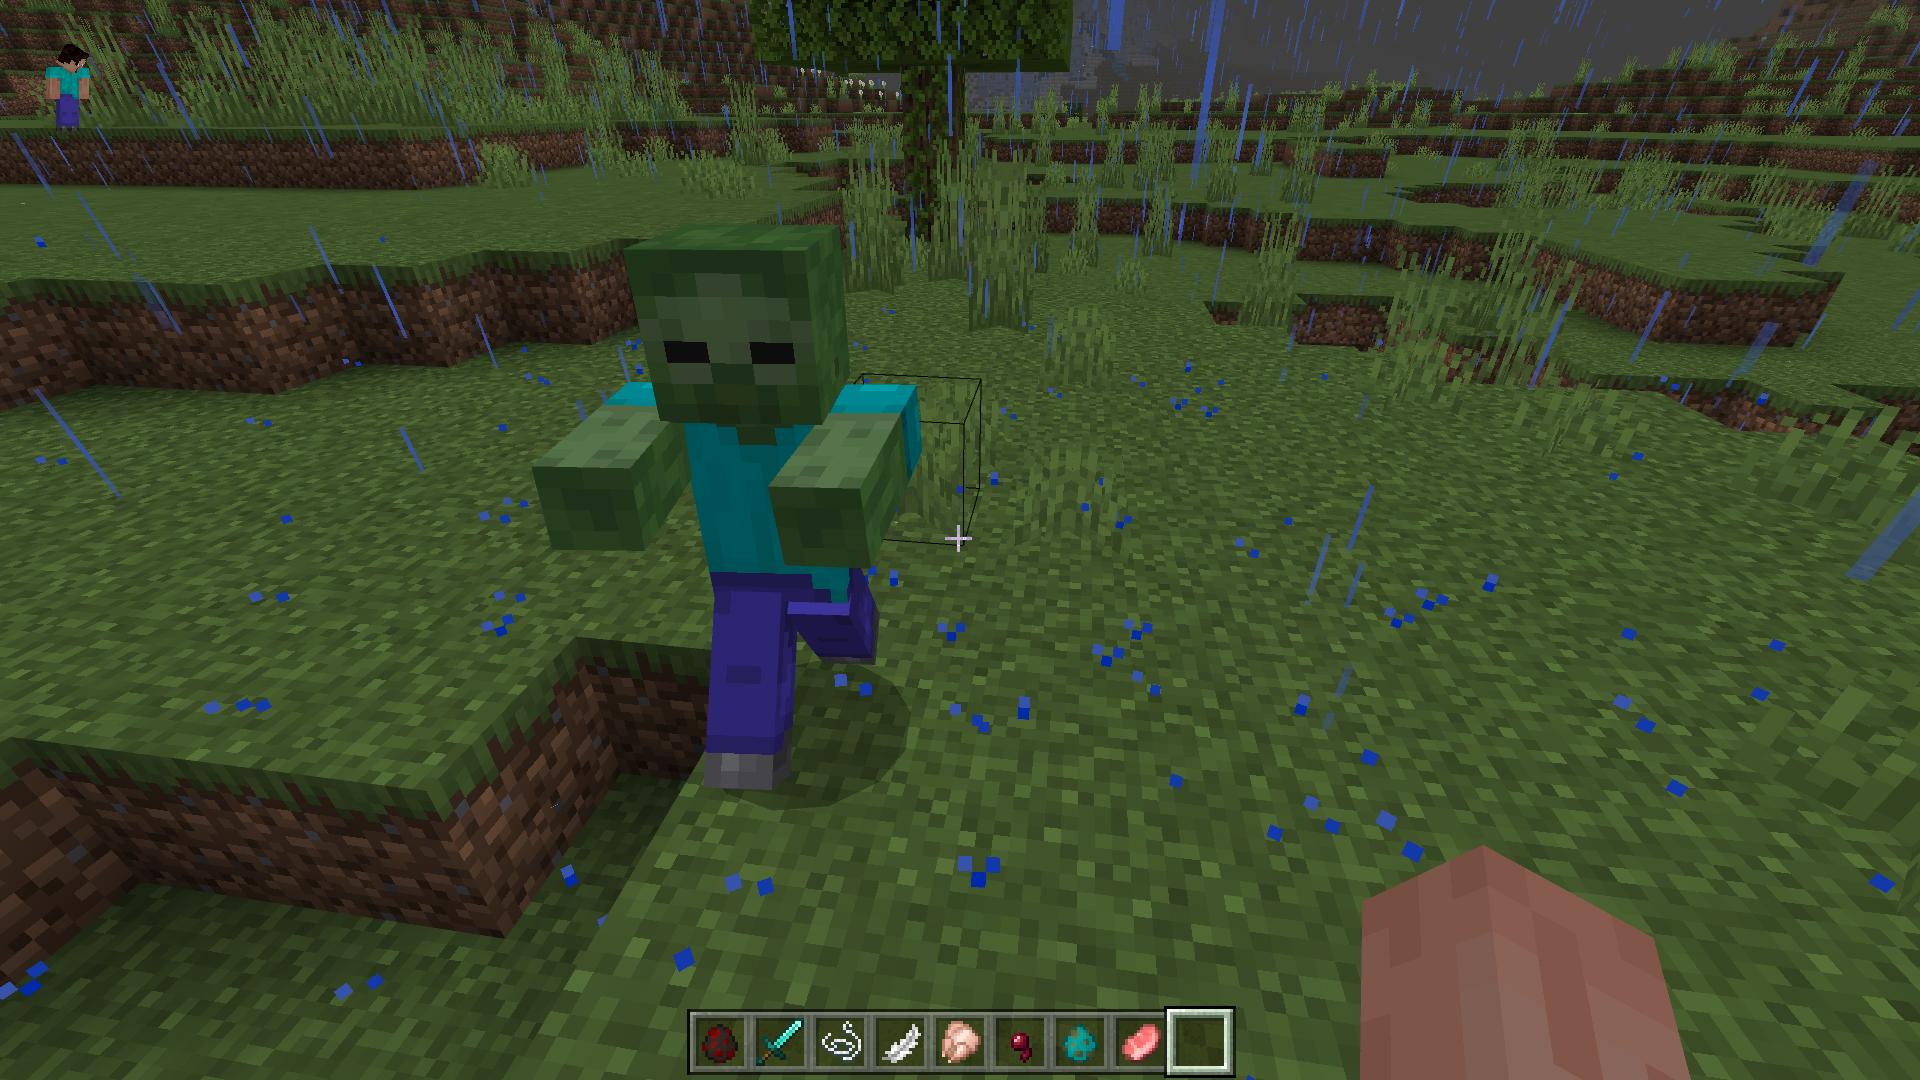zombie: (535, 216, 924, 791)
